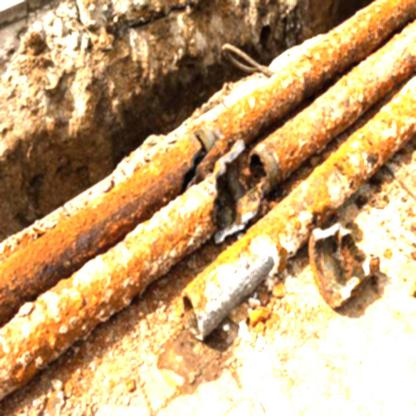burst: (209, 154, 295, 227)
